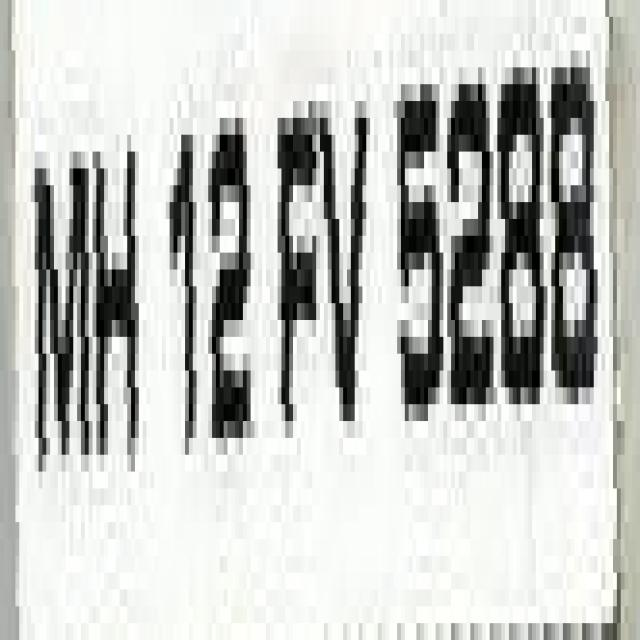license_plate: (8, 0, 601, 640)
